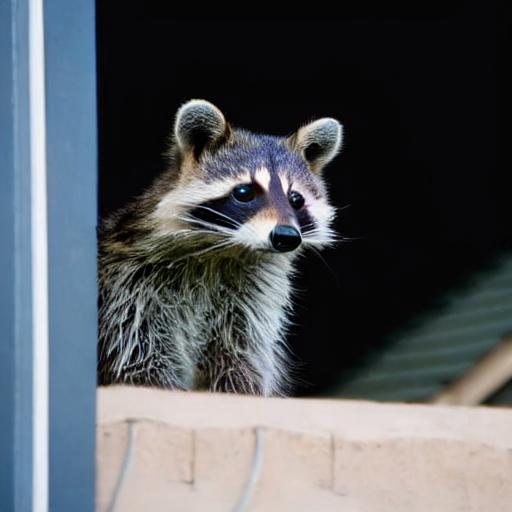raccoon: (98, 96, 348, 396)
